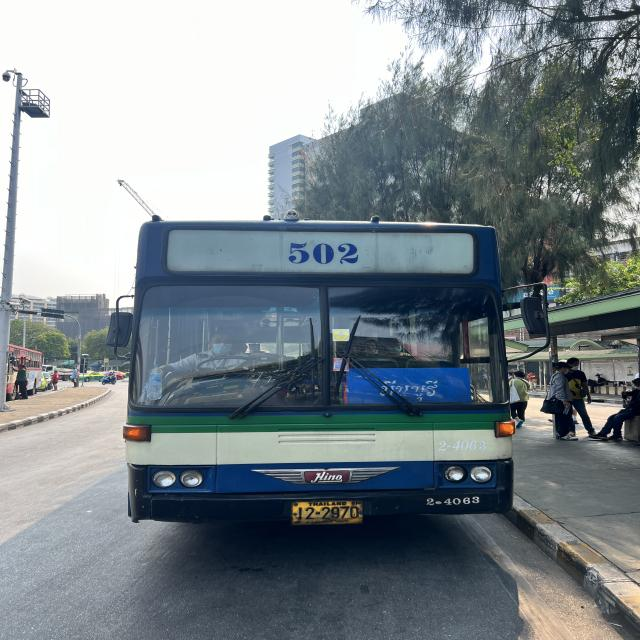BMTA-bus: (122, 220, 519, 530)
Bus-Line-Number: (278, 229, 368, 272)
Destination-Sign-Normal: (344, 367, 476, 403)
